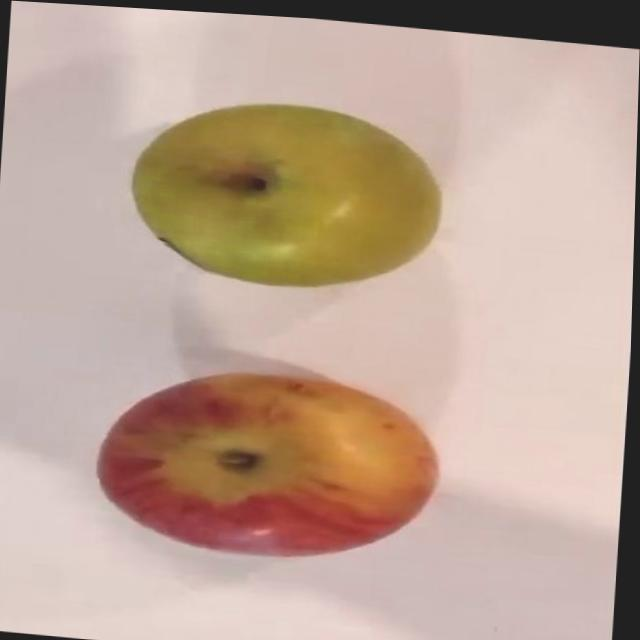Apple: (94, 353, 447, 567), (127, 86, 449, 296)
